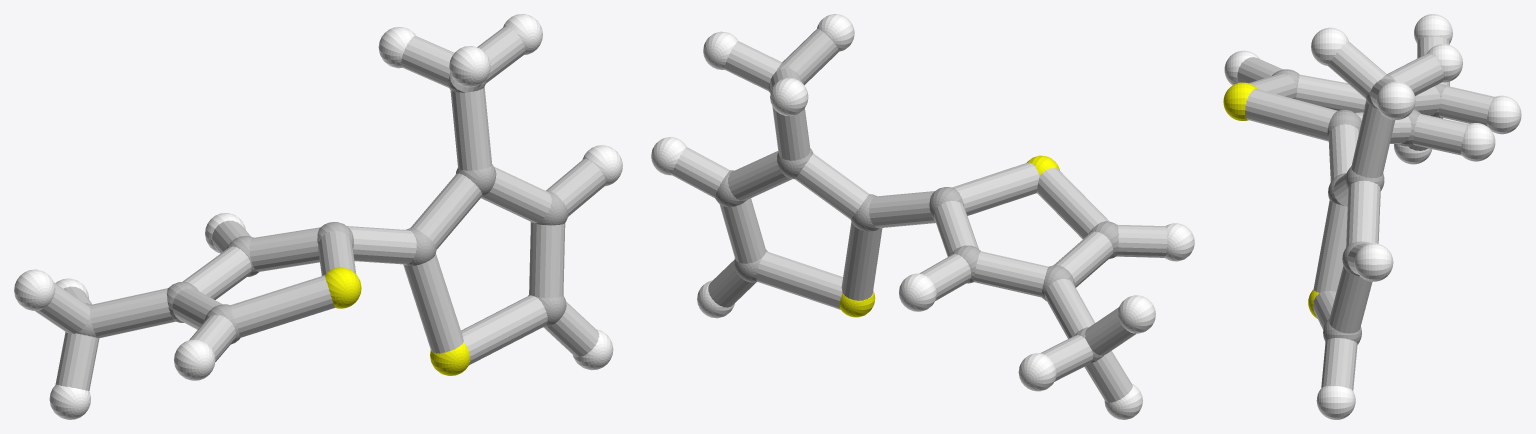
The model's file is Methylthiophene_Phi_30_Theta_270_Methylthiophene.glb.
3 views of the same model, side by side, from view 1: azimuth 30°, elevation 25°; view 2: azimuth 150°, elevation 25°; view 3: azimuth 270°, elevation 25° (orthographic). The views are drawn at different scales.
Parts seen in each view (by area): view 1: grp7965, grp3621, grp1, grp7241; view 2: grp7965, grp3621, grp1, grp7241; view 3: grp7965, grp3621, grp1, grp7241.
Part boxes in pixels (bbox=[...]): grp7965: bbox=[35, 26, 606, 390]; grp3621: bbox=[14, 14, 622, 419]; grp1: bbox=[77, 76, 568, 344]; grp7241: bbox=[325, 267, 470, 375]; grp7965: bbox=[672, 28, 1167, 402]; grp3621: bbox=[651, 14, 1194, 419]; grp1: bbox=[715, 63, 1118, 363]; grp7241: bbox=[839, 155, 1059, 317]; grp7965: bbox=[1237, 36, 1494, 390]; grp3621: bbox=[1224, 14, 1521, 419]; grp1: bbox=[1272, 69, 1446, 344]; grp7241: bbox=[1223, 82, 1318, 318].
Bounding box in the file's own units: 9.53 × 5.63 × 4.59.
